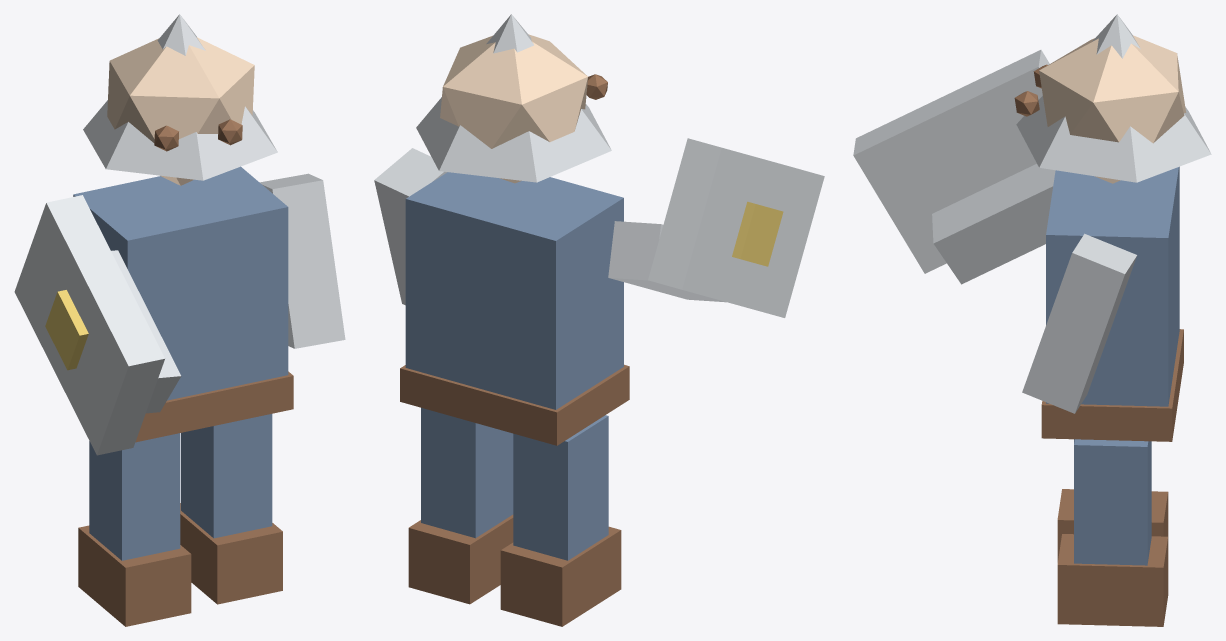
Rendered from npcpose_guard_idle_07.glb.
3 views of the same model, side by side, from view 1: azimuth 30°, elevation 25°; view 2: azimuth 150°, elevation 25°; view 3: azimuth 270°, elevation 25° (orthographic).
Visible parts, largest first — view 1: npcpose; view 2: npcpose; view 3: npcpose.
Part boxes in pixels (x1,y1,x2,y2): npcpose: (14,14,345,626); npcpose: (374,14,824,626); npcpose: (853,14,1211,626).
Size of the model in its own units: 0.9006 by 1.55 by 0.8766.
